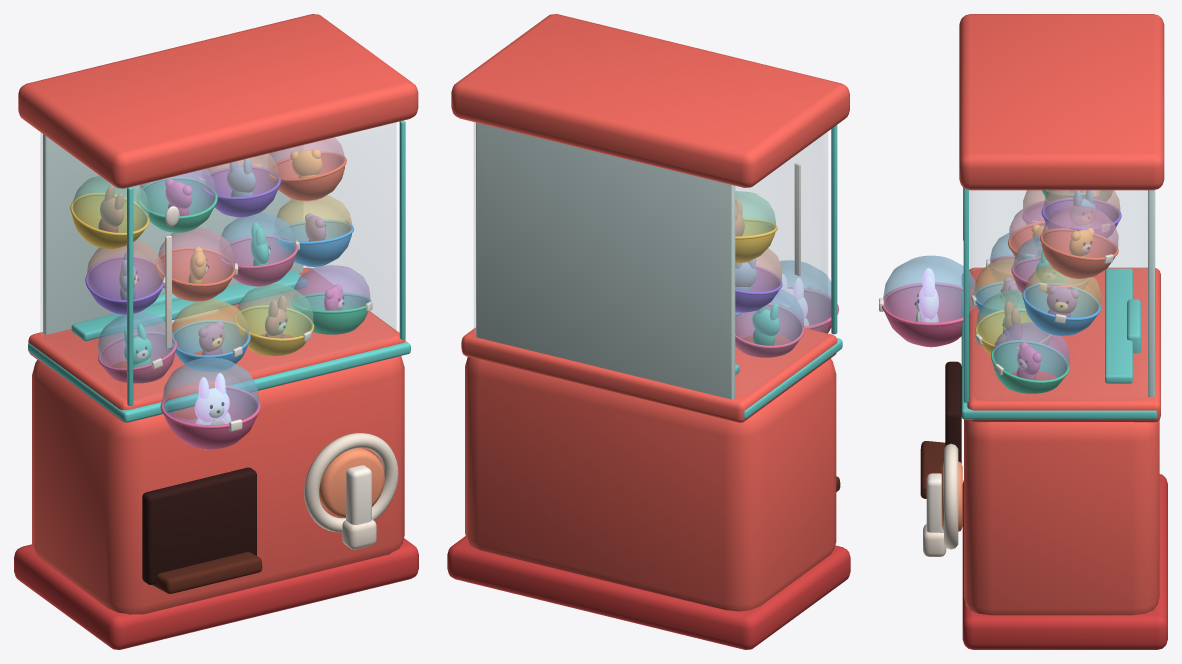
File: gacha-machine.glb
3 views of the same model, side by side, from view 1: azimuth 30°, elevation 25°; view 2: azimuth 150°, elevation 25°; view 3: azimuth 270°, elevation 25° (orthographic).
Visible parts, largest first — view 1: GlassDome, Body, Crown, ChamberBack, Base, DomeBowl, Chute, PrizeTop, GlassBottomFrame, ChamberShelf, CrankOuterRing, CapsuleTop_01 (+34 smaller); view 2: Body, GlassDome, ChamberBack, Crown, Base, DomeBowl, CapsuleTop_00, PrizeTop, CapsuleBottom_00, CapsuleTop_04, CapsuleTop_08, GlassEdge_0 (+5 smaller); view 3: GlassDome, Body, Crown, DomeBowl, Base, PrizeTop, CapsuleTop_03, CapsuleTop_11, ChamberShelf, PrizeBottom, CapsuleTop_07, GlassBottomFrame (+27 smaller).
Part boxes in pixels (x1=…): GlassDome: x1=40, y1=123, x2=396, y2=400; Body: x1=32, y1=356, x2=404, y2=614; Crown: x1=18, y1=14, x2=418, y2=188; ChamberBack: x1=43, y1=134, x2=303, y2=334; Base: x1=14, y1=538, x2=418, y2=649; DomeBowl: x1=28, y1=267, x2=405, y2=422; Chute: x1=142, y1=467, x2=256, y2=584; PrizeTop: x1=162, y1=357, x2=258, y2=425; GlassBottomFrame: x1=28, y1=341, x2=410, y2=422; ChamberShelf: x1=71, y1=270, x2=306, y2=340; CrankOuterRing: x1=304, y1=433, x2=398, y2=532; CapsuleTop_01: x1=172, y1=299, x2=248, y2=354; Body: x1=465, y1=357, x2=836, y2=611; GlassDome: x1=474, y1=122, x2=827, y2=397; ChamberBack: x1=476, y1=122, x2=735, y2=399; Crown: x1=451, y1=14, x2=849, y2=187; Base: x1=447, y1=536, x2=850, y2=649; DomeBowl: x1=461, y1=327, x2=837, y2=422; CapsuleTop_00: x1=735, y1=289, x2=803, y2=345; PrizeTop: x1=779, y1=260, x2=831, y2=326; CapsuleBottom_00: x1=735, y1=305, x2=801, y2=357; CapsuleTop_04: x1=735, y1=248, x2=782, y2=291; CapsuleTop_08: x1=735, y1=191, x2=775, y2=236; GlassEdge_0: x1=831, y1=125, x2=837, y2=334; GlassDome: x1=969, y1=190, x2=1155, y2=400; Body: x1=964, y1=419, x2=1159, y2=615; Crown: x1=959, y1=14, x2=1164, y2=190; DomeBowl: x1=967, y1=267, x2=1160, y2=422; Base: x1=962, y1=474, x2=1167, y2=649; PrizeTop: x1=883, y1=255, x2=975, y2=322; CapsuleTop_03: x1=993, y1=322, x2=1069, y2=380; CapsuleTop_11: x1=1042, y1=205, x2=1118, y2=257; ChamberShelf: x1=1105, y1=268, x2=1132, y2=383; PrizeBottom: x1=885, y1=286, x2=962, y2=347; CapsuleTop_07: x1=1024, y1=264, x2=1101, y2=317; GlassBottomFrame: x1=961, y1=273, x2=1156, y2=419.
Size of the model in its own units: 3.04 by 4.68 by 2.48.
